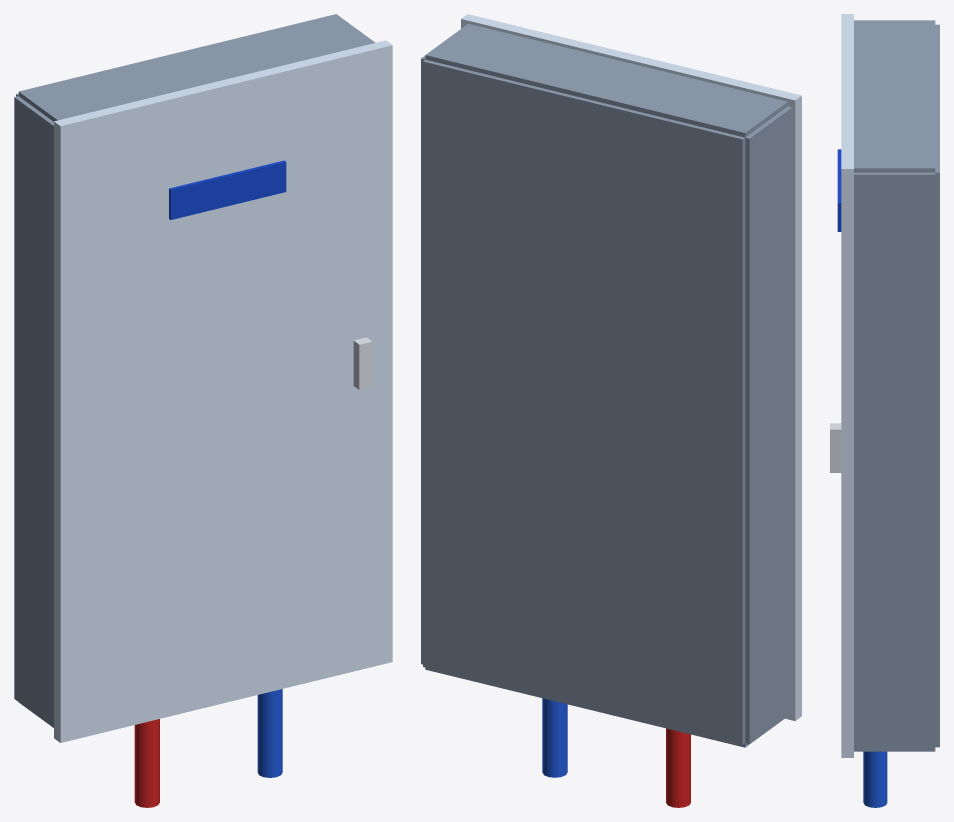
The model's file is pex-manifold-24-closed.glb.
3 renders of one model, left to right at view 1: azimuth 30°, elevation 25°; view 2: azimuth 150°, elevation 25°; view 3: azimuth 270°, elevation 25°, orthographic. The views are drawn at different scales.
Parts seen in each view (by area): view 1: plumbing-manifold-pex-homerun-enclosure-closed; view 2: plumbing-manifold-pex-homerun-enclosure-closed; view 3: plumbing-manifold-pex-homerun-enclosure-closed.
Boxes of the visible parts, x1=… form: plumbing-manifold-pex-homerun-enclosure-closed: x1=14, y1=14, x2=392, y2=807; plumbing-manifold-pex-homerun-enclosure-closed: x1=421, y1=14, x2=801, y2=807; plumbing-manifold-pex-homerun-enclosure-closed: x1=830, y1=14, x2=939, y2=807.
Bounding box in the file's own units: 0.46 × 0.946 × 0.138.
